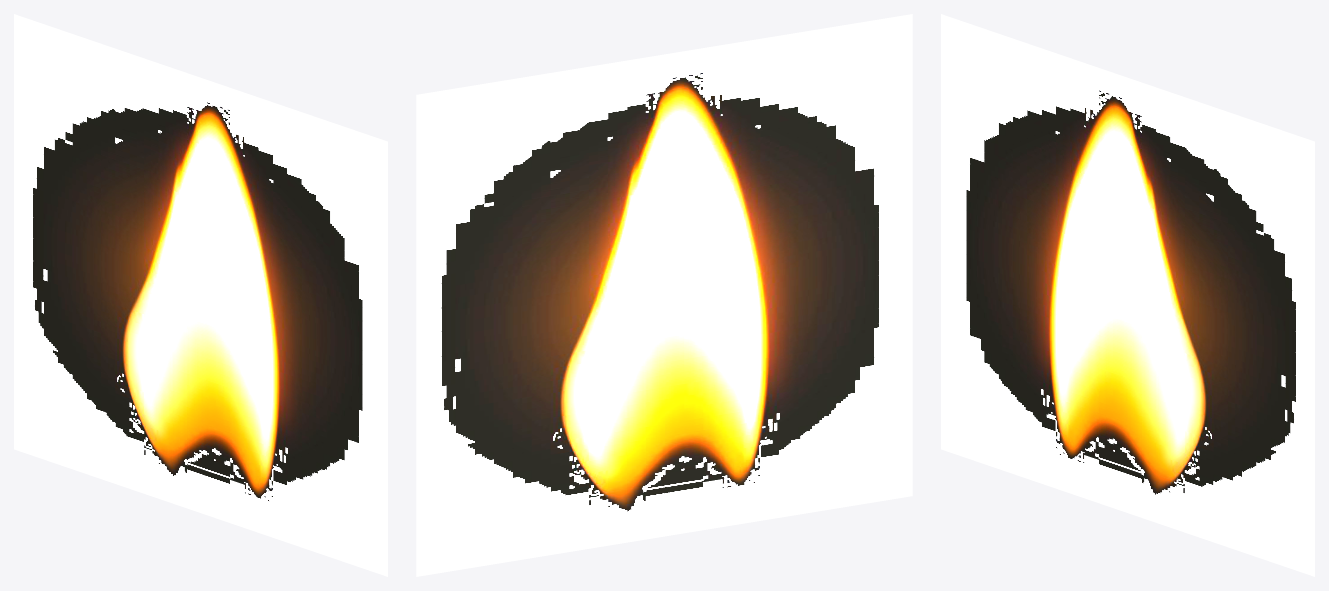
The picture shows the model from 3 angles, left to right: view 1: azimuth 90°, elevation 25°; view 2: azimuth 150°, elevation 25°; view 3: azimuth 270°, elevation 25°; orthographic projection. The views are drawn at different scales.
Visible parts, largest first — view 1: _153; view 2: _153; view 3: _153.
Part boxes in pixels (x1,y1,x2,y2): _153: (14, 14, 387, 576); _153: (416, 14, 912, 576); _153: (941, 14, 1314, 576).
Bounding box in the file's own units: 7.48 × 11.91 × 9.27.
